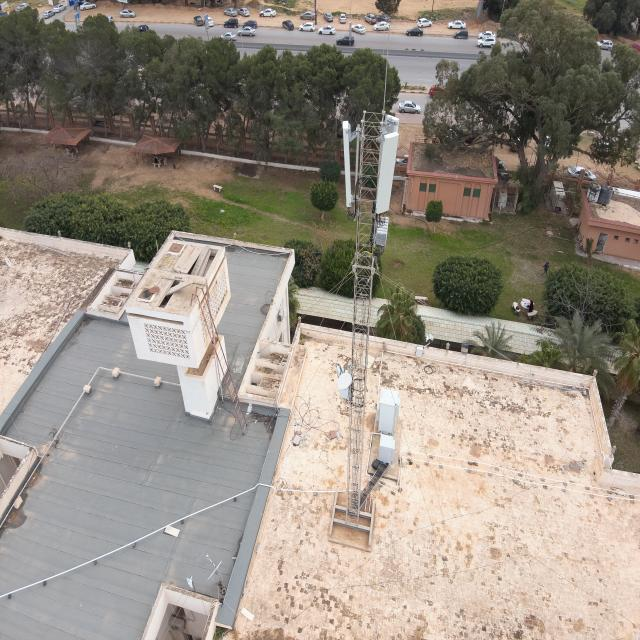antenna: (376, 130, 400, 215), (378, 113, 400, 196), (341, 118, 354, 209)
lighnig-rad: (383, 22, 391, 114)
microware-dish: (333, 362, 352, 393)
radio-unit: (375, 214, 390, 247)
